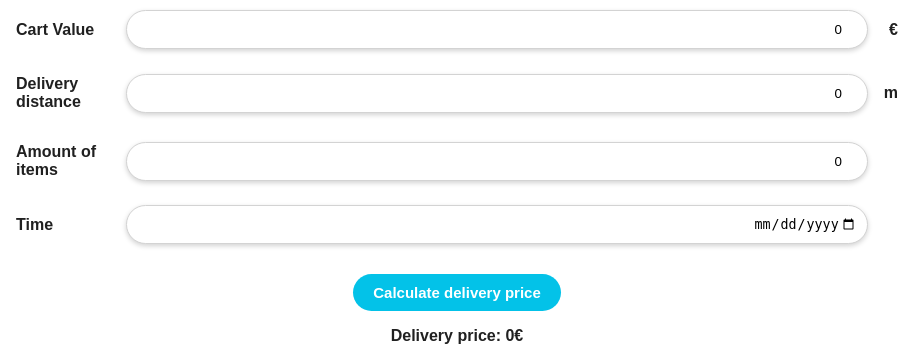
Test case: Testing React Components › fee change
Replace the text in the number field with test id "cartValue" with "2" at (497, 30), box [126, 10, 868, 49]
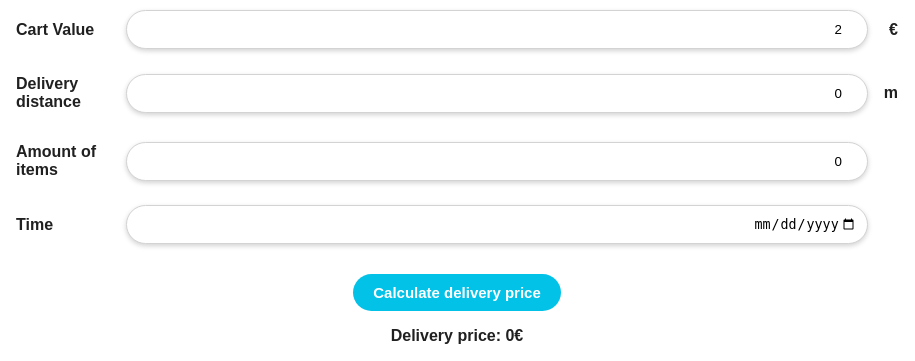
Replace the text in the number field with test id "deliveryDistance" with "1500" at (497, 93), box [126, 74, 868, 112]
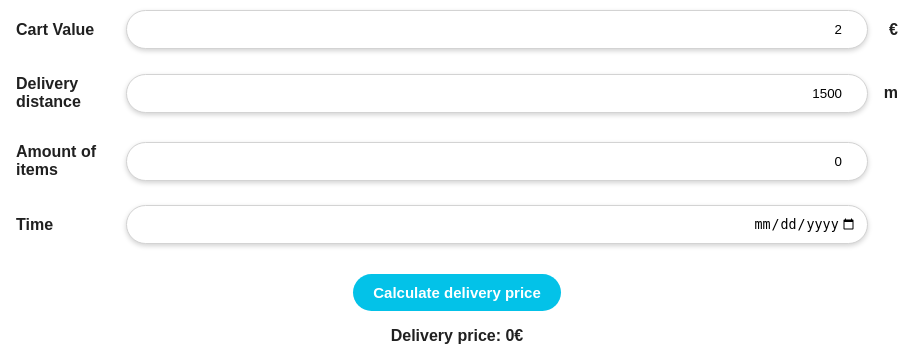
Replace the text in the number field with test id "amountOfItems" with "2" at (497, 161), box [126, 142, 868, 180]
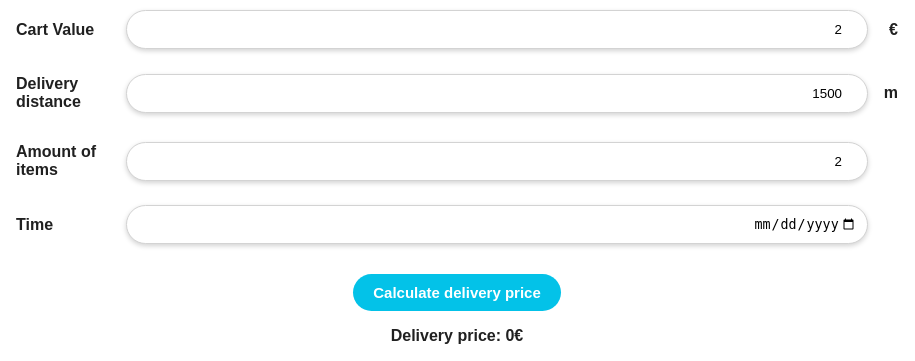
Type "2023-12-14" into the date field with test id "time" at (497, 224), box [126, 205, 868, 244]
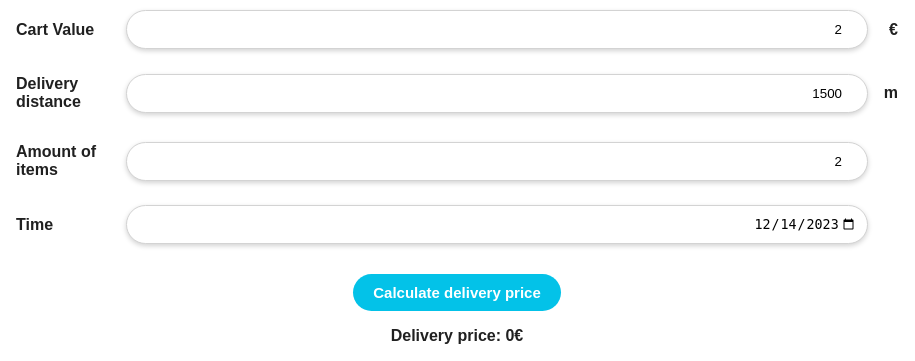
Click the button with test id "submitButton" at (457, 292), box [353, 274, 561, 311]
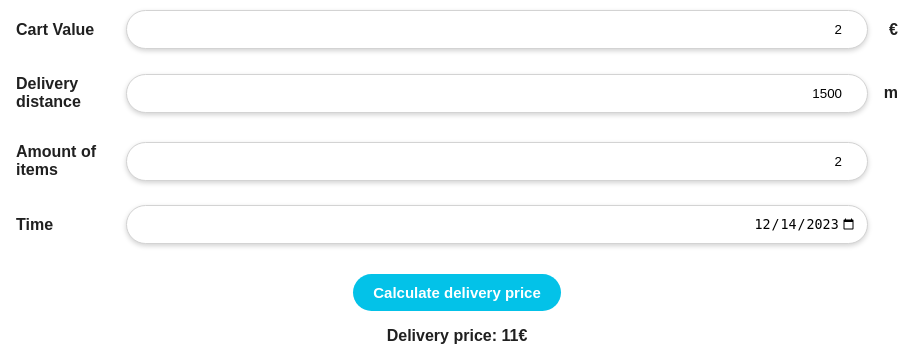
Expected: the text with test id "fee" reads "Delivery price: 11€", [387, 327, 527, 344]
